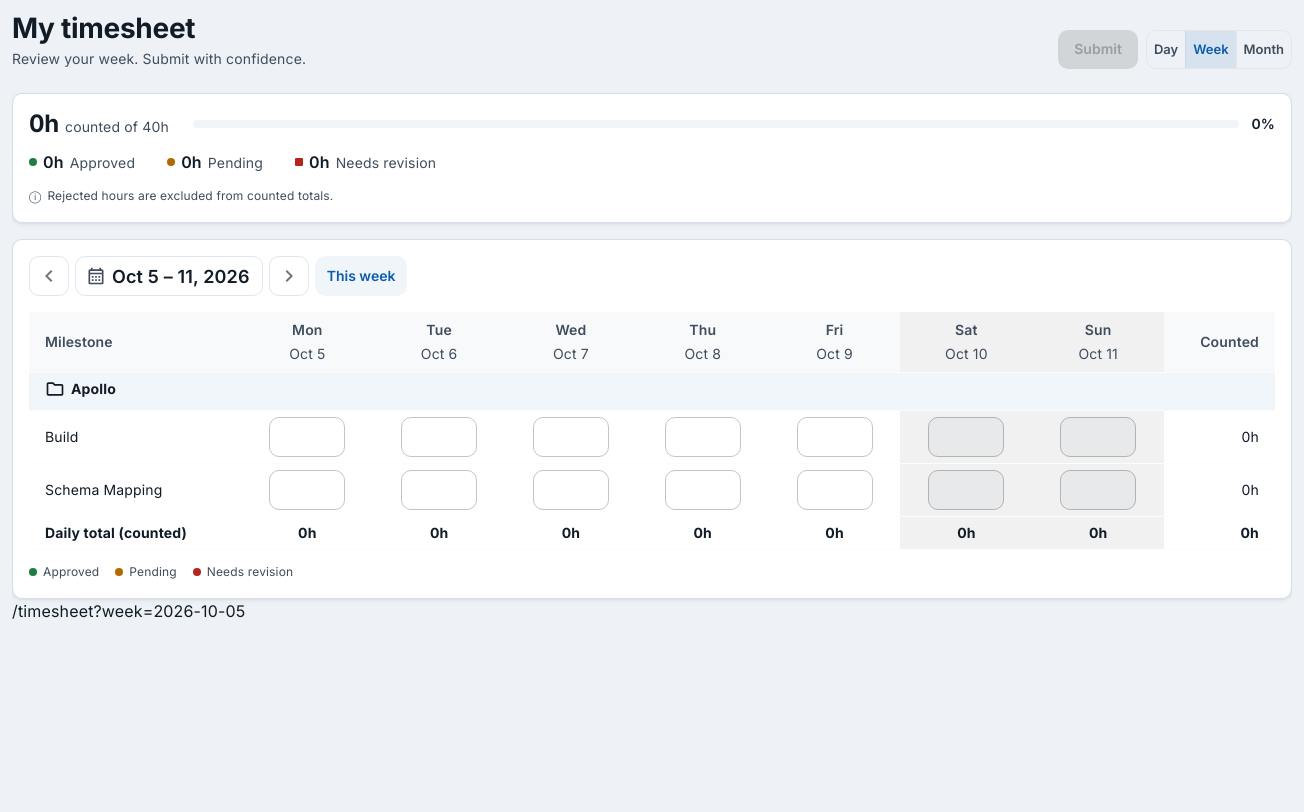
Scenario: restoring after the week changed underneath (Review Focus 3) › leaving a week before its own data is in keeps that week's stored typing
expect the field named "Schema Mapping, Tue Oct 6" is shown: met, box [401,470,477,510]
Click the button named "Next week": (289, 276) [269,256,309,296]
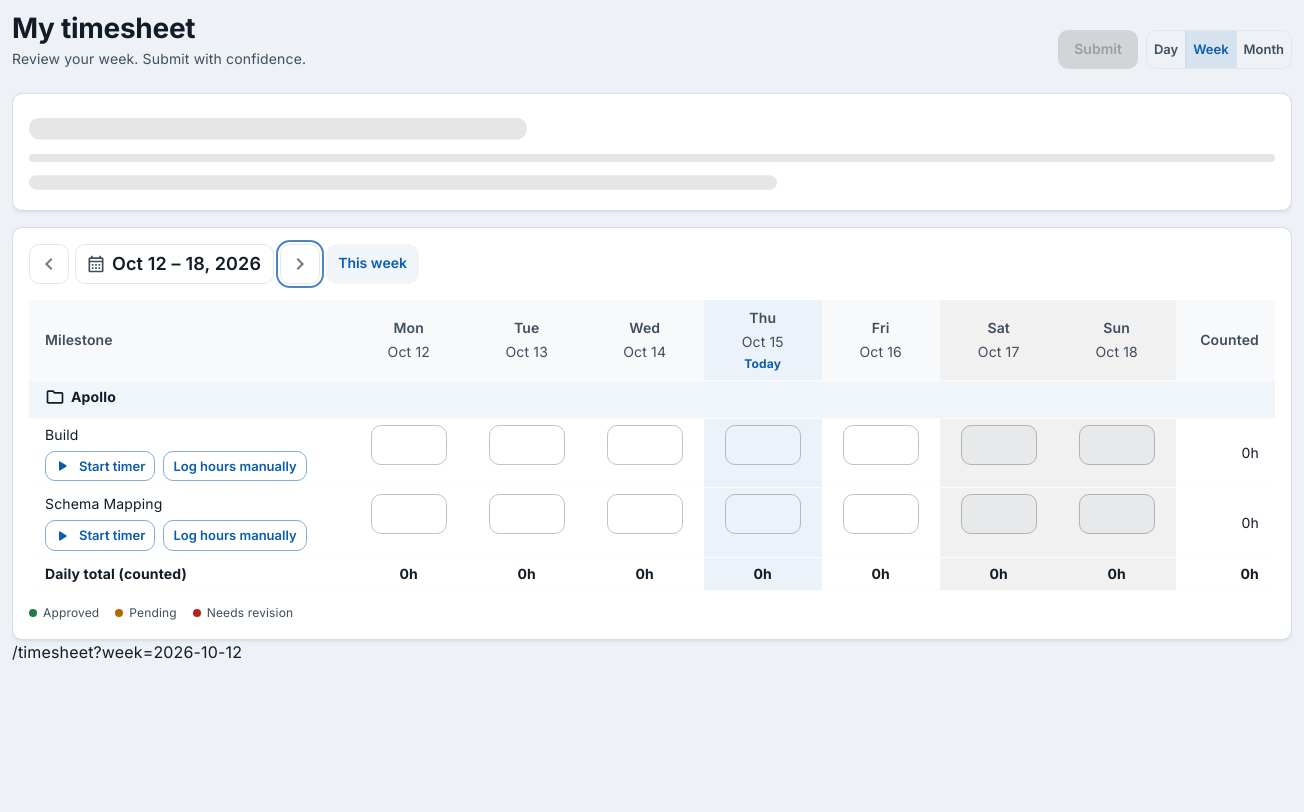
expect the heading "Oct 12 – 18, 2026" is shown: met, box [112,253,261,274]
Click the button named "Previous week": (49, 264) [29,244,69,284]
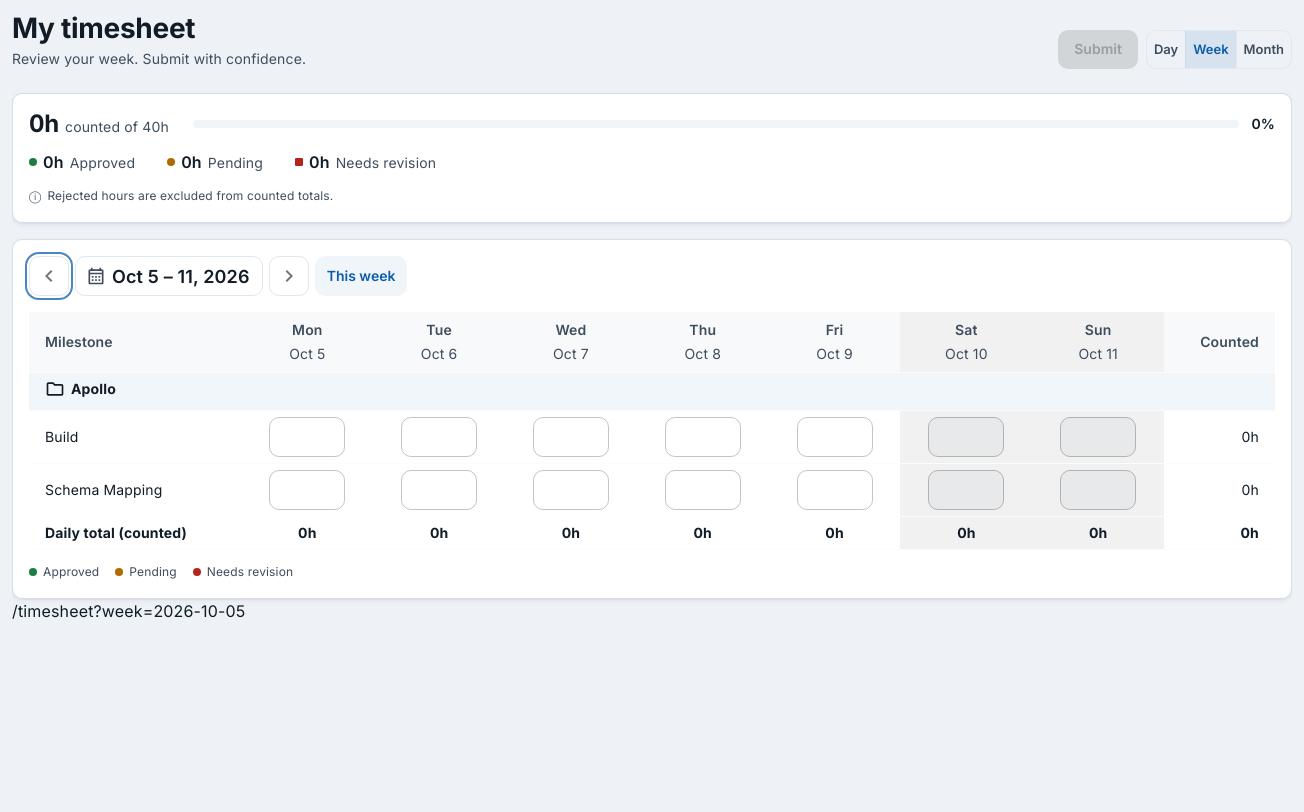
expect the heading "Oct 5 – 11, 2026" is shown: met, box [112,266,250,287]
